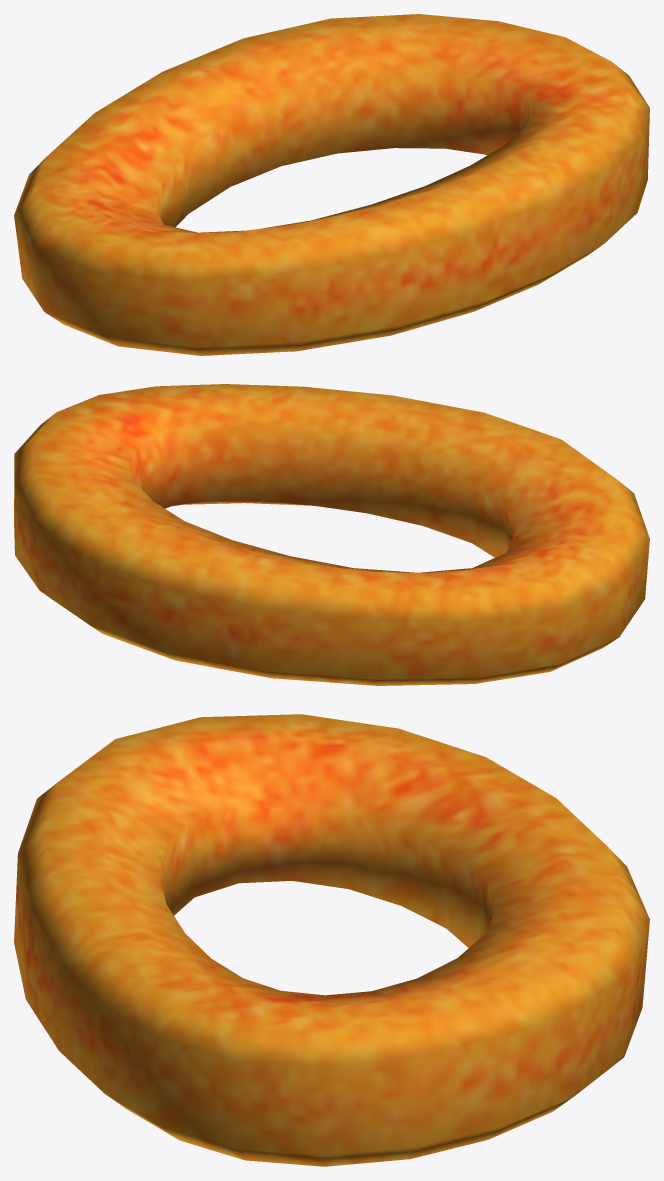
The model's file is SM_CircleFries_01.fbx.
3 renders of one model, top to bottom at view 1: azimuth 30°, elevation 25°; view 2: azimuth 150°, elevation 25°; view 3: azimuth 270°, elevation 25°, orthographic. The views are drawn at different scales.
Visible parts, largest first — view 1: SM_CircleFries_01_LOD0; view 2: SM_CircleFries_01_LOD0; view 3: SM_CircleFries_01_LOD0.
Part boxes in pixels (bbox=[...]): SM_CircleFries_01_LOD0: bbox=[14, 14, 649, 355]; SM_CircleFries_01_LOD0: bbox=[14, 384, 649, 685]; SM_CircleFries_01_LOD0: bbox=[14, 714, 649, 1166].
Size of the model in its own units: 6.43 by 4.74 by 1.24.
Materials: 1 (1 with a texture image).
